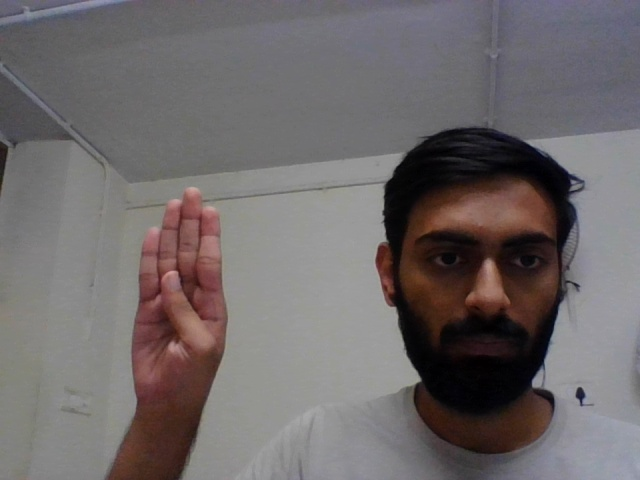B: (124, 178, 233, 440)
